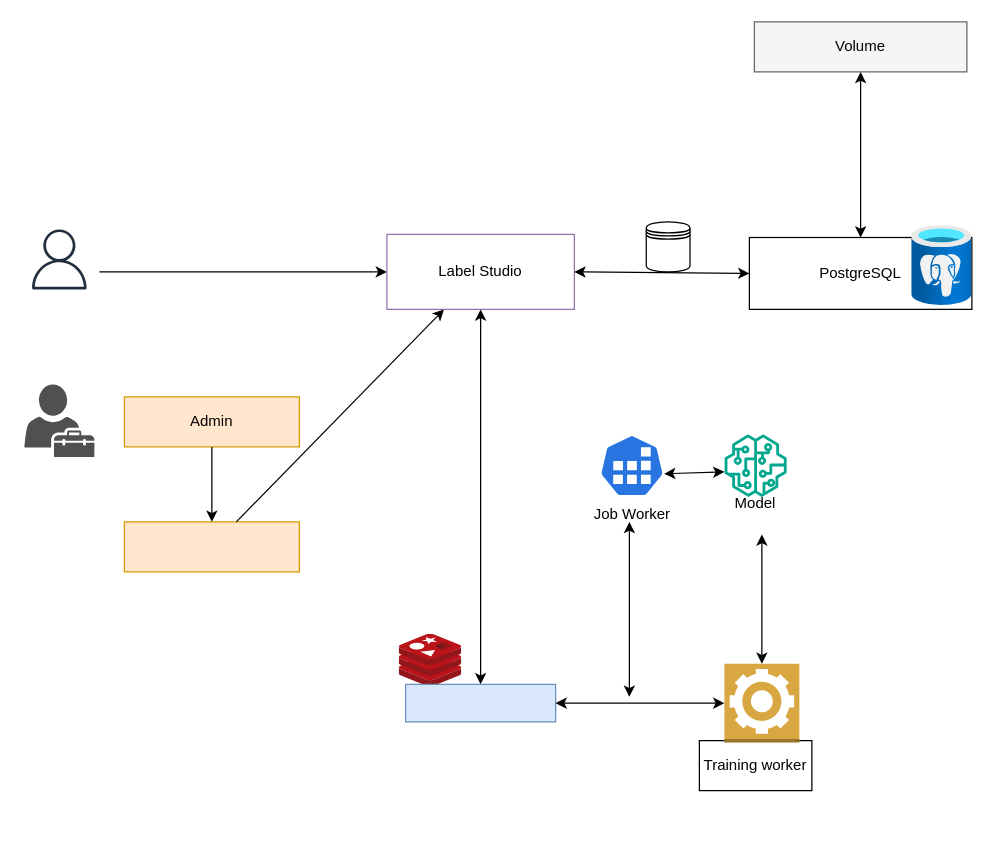
This 994x846 diagram has some shape labels left out. Here are the shapes that lost their labels. From the top down, the box of each, then its label:
(21, 221, 97, 297): User
(123, 521, 299, 572): Management Channel
(404, 683, 556, 722): Redis Server
